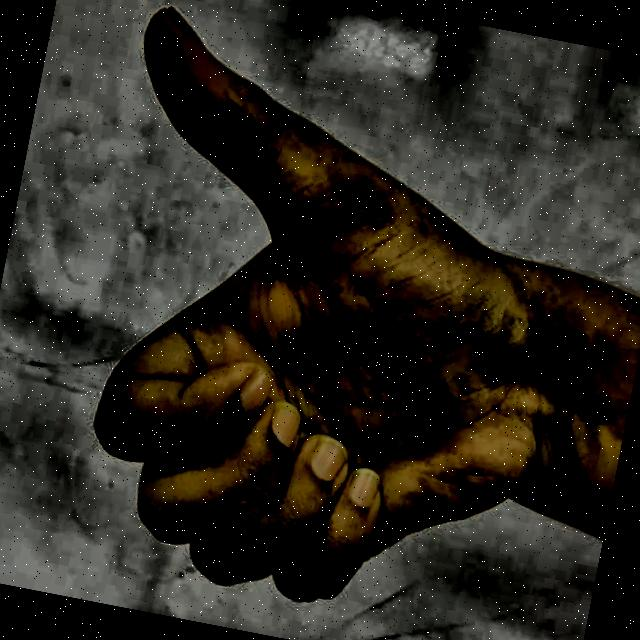Do: (10, 0, 611, 640)
